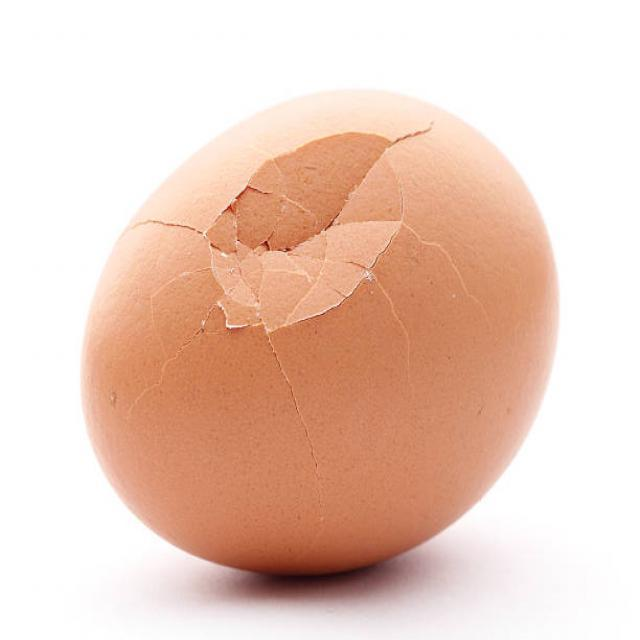biodegradable: (62, 72, 592, 606)
